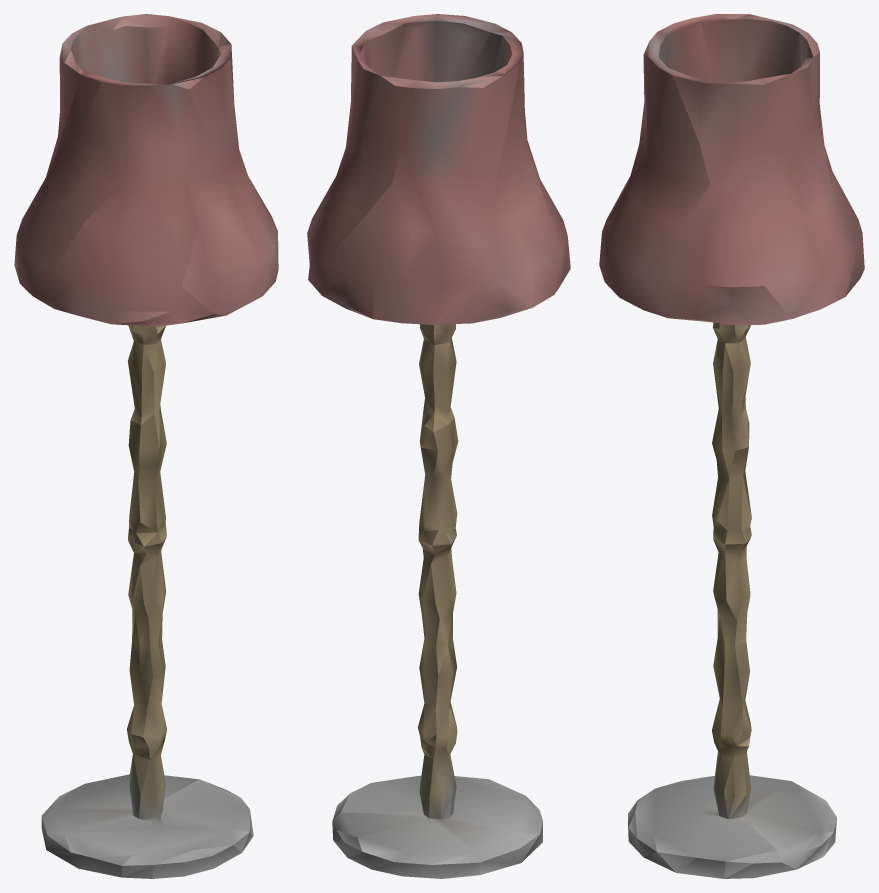
Rendered from Lamp02.fbx.
3 renders of one model, left to right at view 1: azimuth 30°, elevation 25°; view 2: azimuth 150°, elevation 25°; view 3: azimuth 270°, elevation 25°, orthographic.
Visible parts, largest first — view 1: Lamp02; view 2: Lamp02; view 3: Lamp02.
Boxes of the visible parts, box(x1,y1,x2,y2) form: Lamp02: box(14, 14, 278, 878); Lamp02: box(307, 14, 570, 878); Lamp02: box(599, 14, 864, 878).
Size of the model in its own units: 58.67 by 191 by 58.47.
